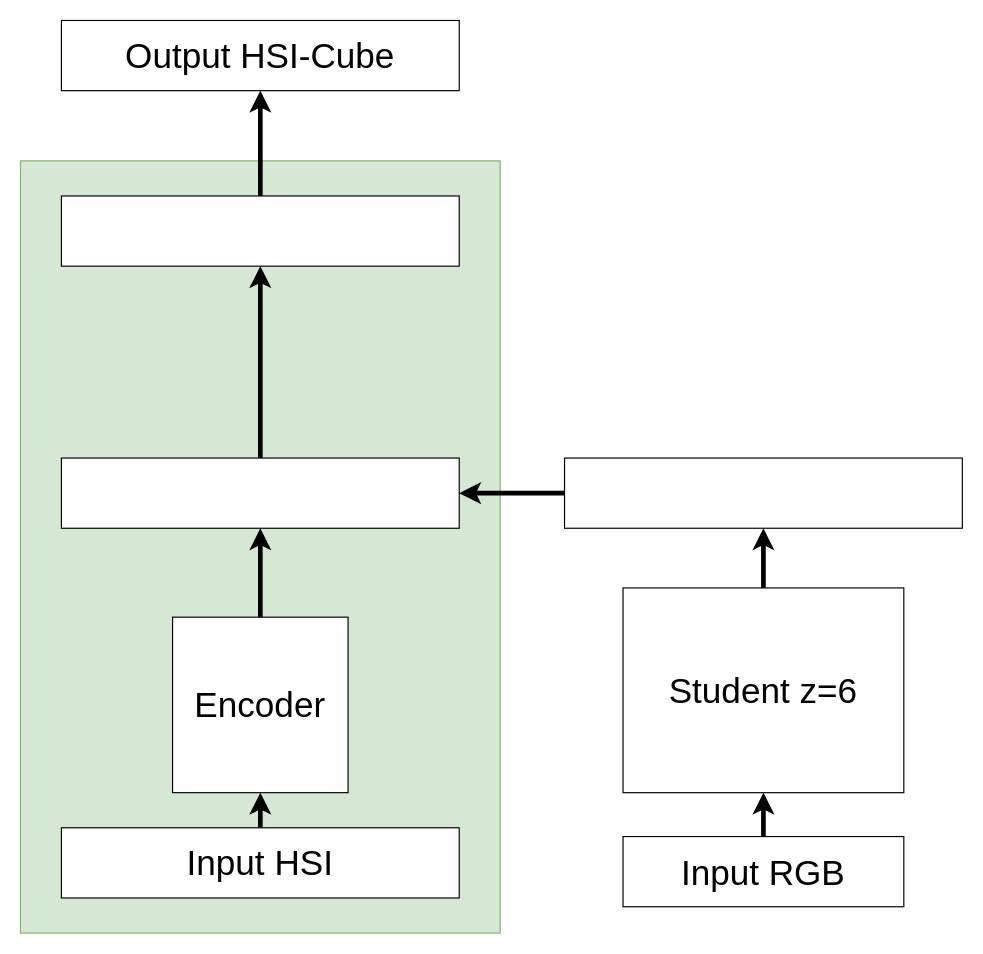
Image size: 983x954. Some labels were removed from this diagram. Here are the shapes that lost their labels. From the top down, the box of each, then its label:
(60, 195, 459, 266): Dencoder
(60, 457, 459, 528): Laten Space z=8
(563, 457, 962, 528): Adapter z=8
